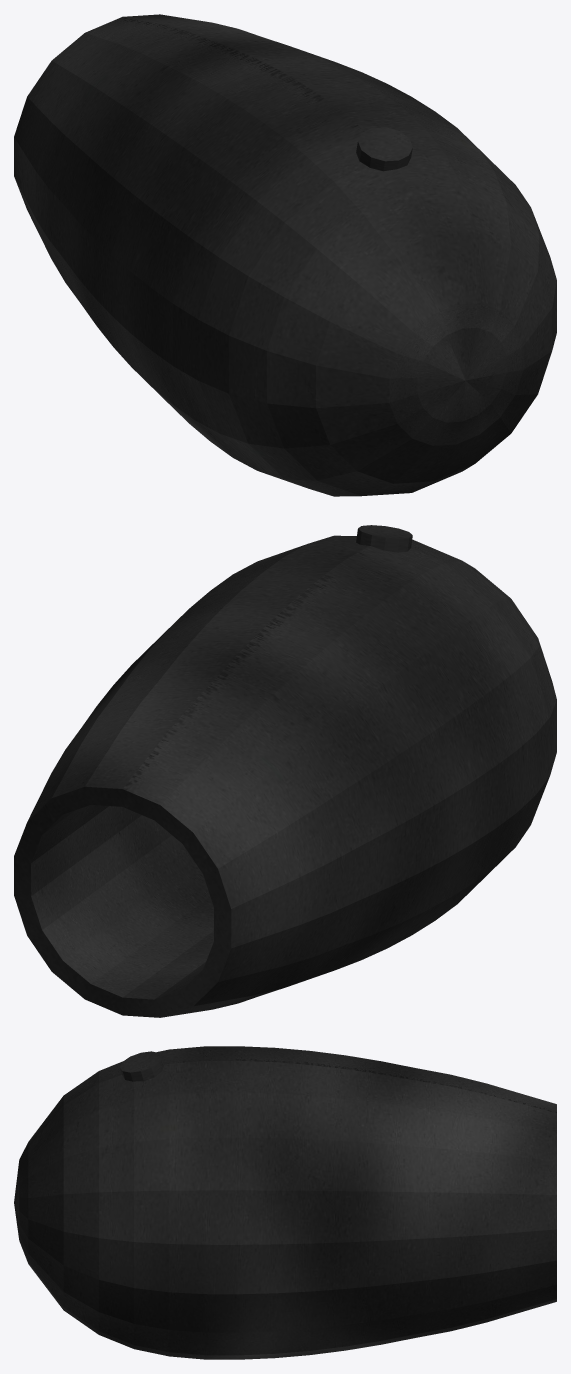
File: cannon_col.fbx
3 renders of one model, top to bottom at view 1: azimuth 30°, elevation 25°; view 2: azimuth 150°, elevation 25°; view 3: azimuth 270°, elevation 25°, orthographic. The views are drawn at different scales.
Visible parts, largest first — view 1: Col#2; view 2: Col#2; view 3: Col#2.
Boxes of the visible parts, bbox=[...] form: Col#2: bbox=[14, 14, 556, 496]; Col#2: bbox=[14, 525, 556, 1017]; Col#2: bbox=[14, 1046, 556, 1359].
Size of what is drawn, in the model's own units: 0.8847 by 0.8936 by 1.53.
Materials: 1 (1 with a texture image).
